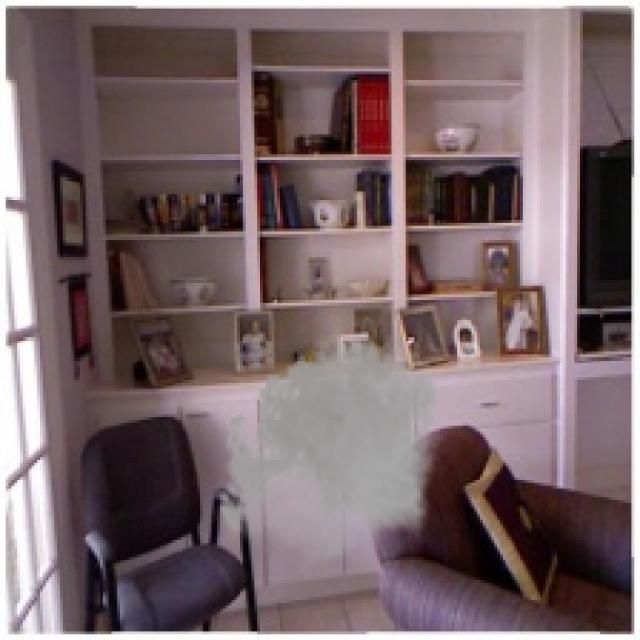Smoke: (212, 323, 448, 574)
